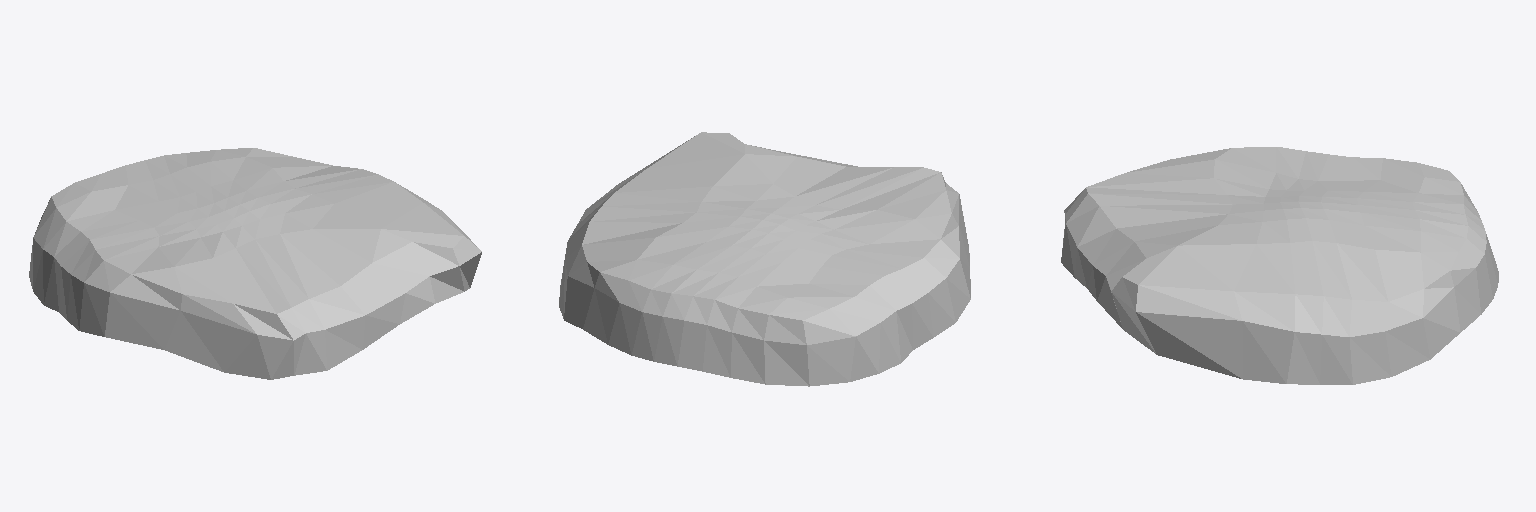
File: terrain_Cube_001.obj
The picture shows the model from 3 angles: view 1: azimuth 30°, elevation 25°; view 2: azimuth 150°, elevation 25°; view 3: azimuth 270°, elevation 25°; orthographic projection.
Visible parts, largest first — view 1: Cube.001; view 2: Cube.001; view 3: Cube.001.
Part boxes in pixels (bbox=[...]): Cube.001: bbox=[29, 148, 481, 379]; Cube.001: bbox=[559, 132, 970, 386]; Cube.001: bbox=[1061, 147, 1498, 384].
Size of the model in its own units: 13.38 by 3.26 by 13.92.